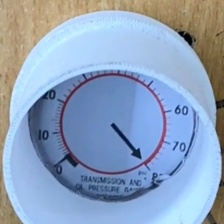gauge: (30, 72, 198, 204)
